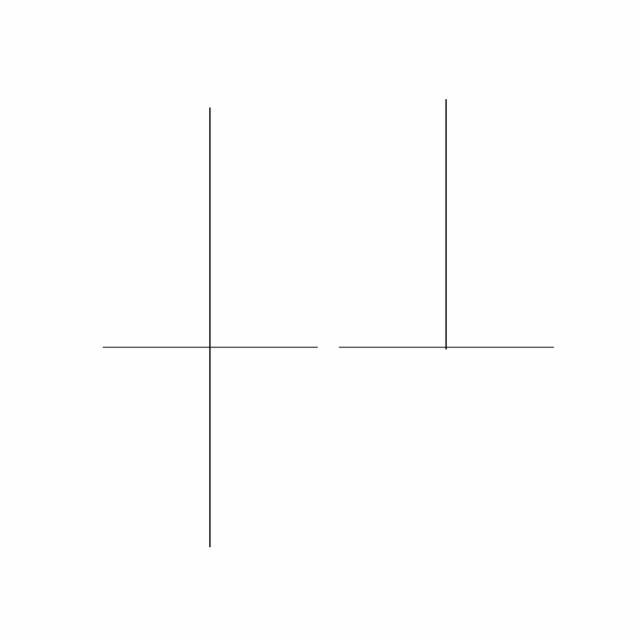Gravestone Doji: (328, 96, 566, 353)
